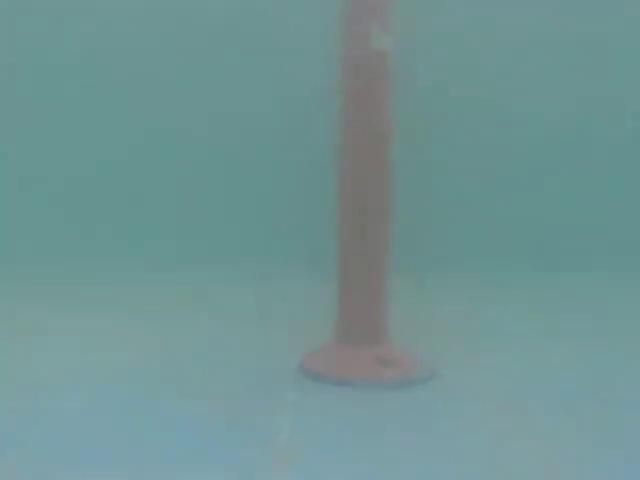flare: (284, 0, 448, 395)
